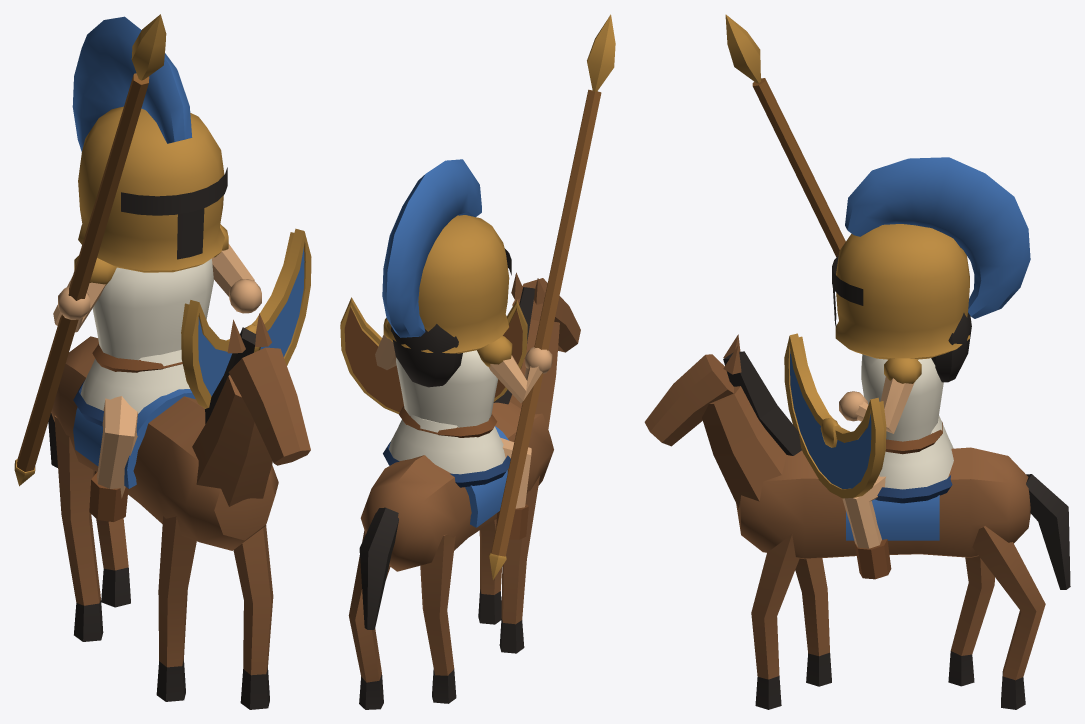
File: rider.glb
3 renders of one model, left to right at view 1: azimuth 30°, elevation 25°; view 2: azimuth 150°, elevation 25°; view 3: azimuth 270°, elevation 25°, orthographic. The views are drawn at different scales.
Visible parts, largest first — view 1: rider; view 2: rider; view 3: rider.
Part boxes in pixels (x1,y1,x2,y2): rider: [14, 14, 311, 709]; rider: [340, 14, 615, 709]; rider: [644, 14, 1070, 709].
Bounding box in the file's own units: 0.4079 × 1.13 × 0.6839.
